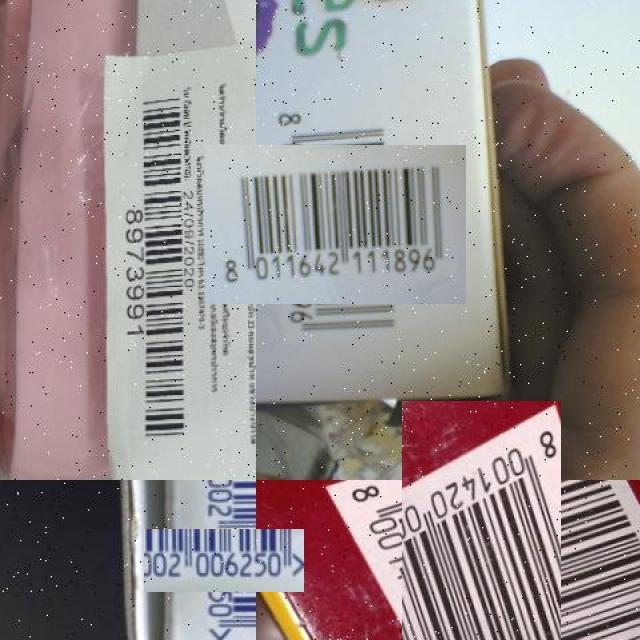Barcode: (361, 440, 600, 640), (231, 120, 441, 330), (122, 83, 194, 456), (168, 504, 280, 616)
